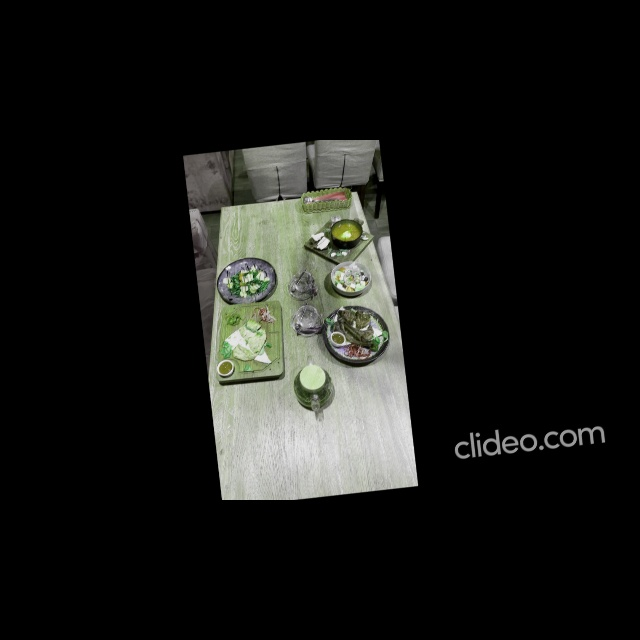Том ям: (302, 213, 377, 270)
графин с чаем: (290, 353, 335, 413)
закуска: (209, 300, 290, 385)
мясное блюдо: (320, 301, 392, 367)
салат: (214, 255, 278, 307)
салат цезарь: (329, 259, 373, 298)
